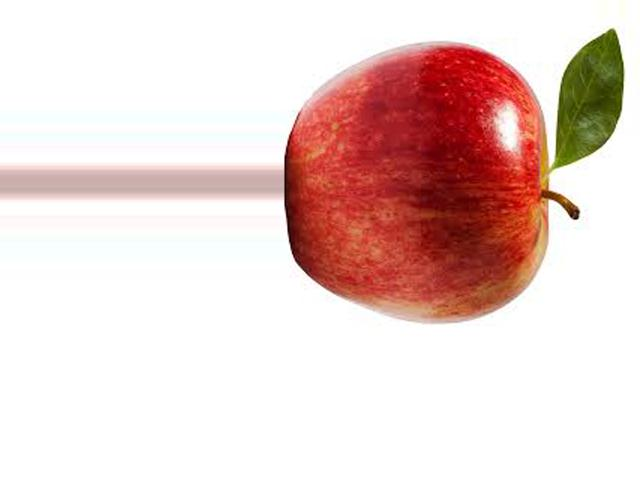apple: (282, 24, 566, 328)
